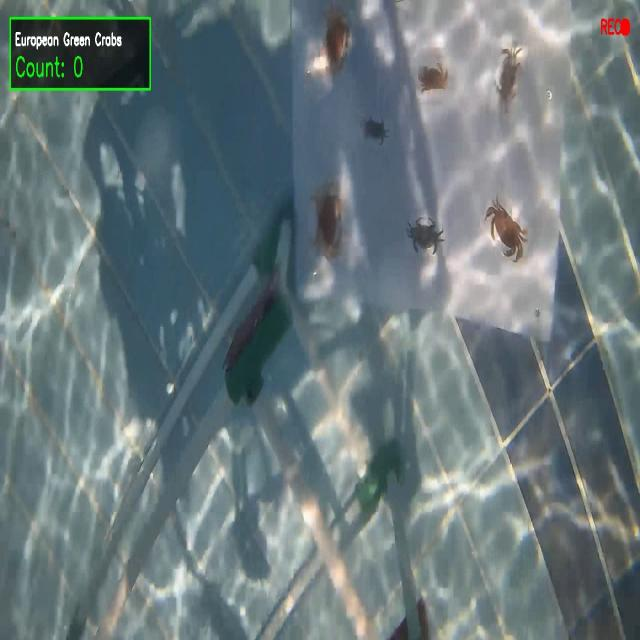European_Green_Crab: (487, 34, 530, 130), (403, 208, 444, 261), (356, 109, 389, 149)
